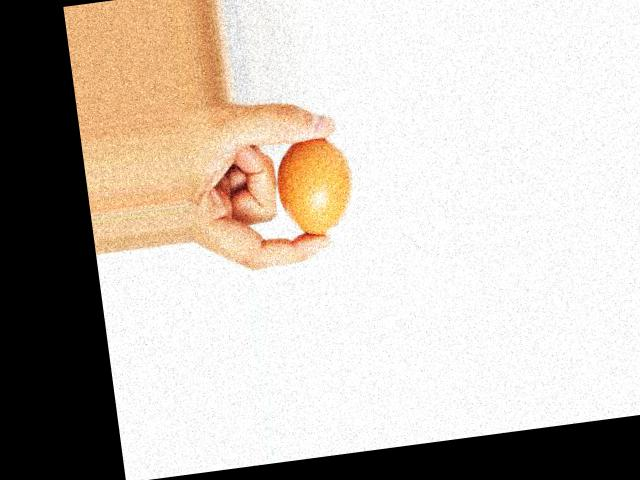egg: (271, 134, 359, 241)
